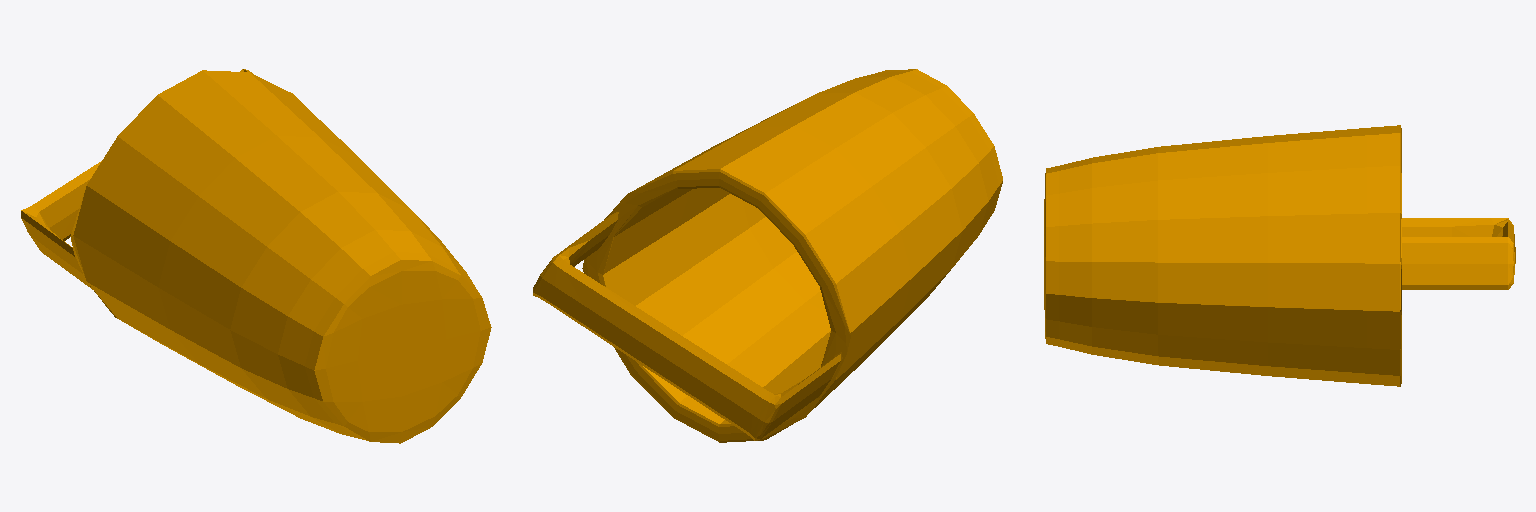
The robot description file, URDF, robot "137":
<?xml version="1.0" ?>
<robot name="137">
  <link name="body">
    <visual>
      <geometry>
        <mesh filename="../shapes/137.obj"/>
      </geometry>
    </visual>
    <collision>
      <geometry>
        <mesh filename="../shapes/137.obj"/>
      </geometry>
    </collision>
  </link>
</robot>

--- Render facts (derived) ---
3 views of the same robot in one strip: view 1: azimuth 30°, elevation 25°; view 2: azimuth 150°, elevation 25°; view 3: azimuth 270°, elevation 25° (orthographic).
Model 137 with 1 links and 0 joints (none), rooted at body, posed all joints at 0.
Visible links, largest first — view 1: body; view 2: body; view 3: body.
Boxes of the visible links, left/top/right/bottom form: body: left=21, top=69, right=491, bottom=443; body: left=533, top=69, right=1002, bottom=442; body: left=1044, top=125, right=1515, bottom=386.
Bounding box of the posed robot: 2.88 × 4.88 × 2.8 m (x, y, z).
1 mesh visuals loaded from 1 distinct referenced files (1 OBJ).